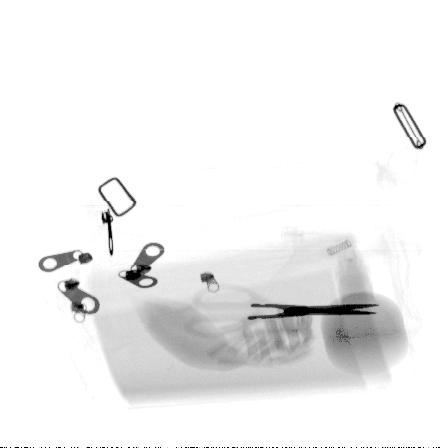Scissors: (179, 283, 383, 338)
